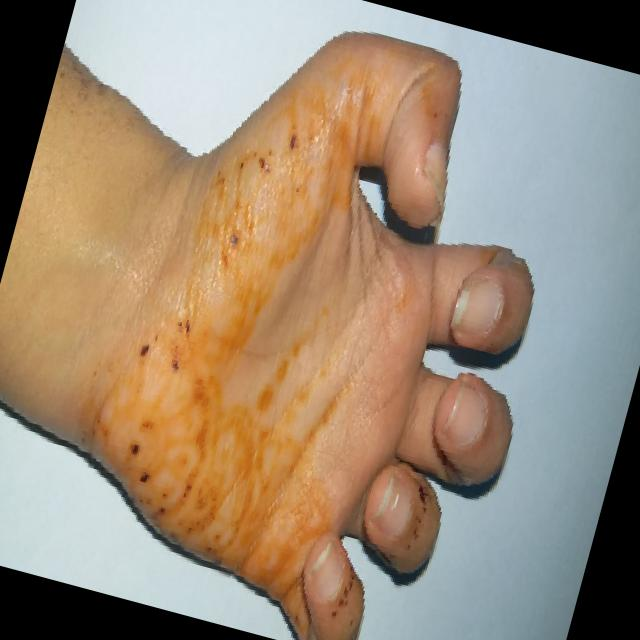Nail: (449, 277, 502, 332), (371, 476, 415, 538), (307, 536, 343, 602), (446, 385, 485, 443), (423, 142, 447, 202)
